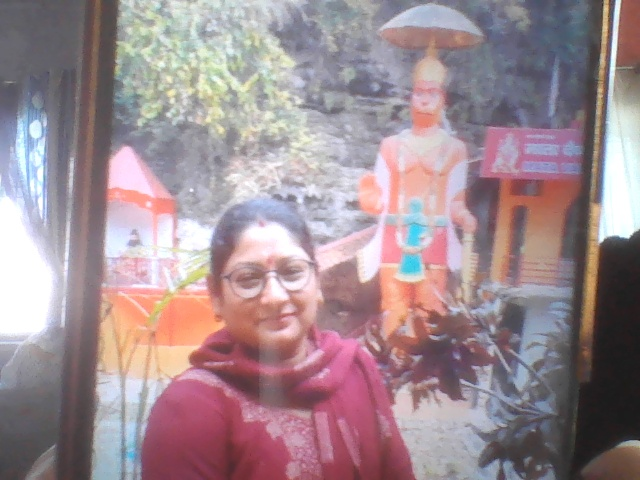fake: (207, 187, 341, 377)
